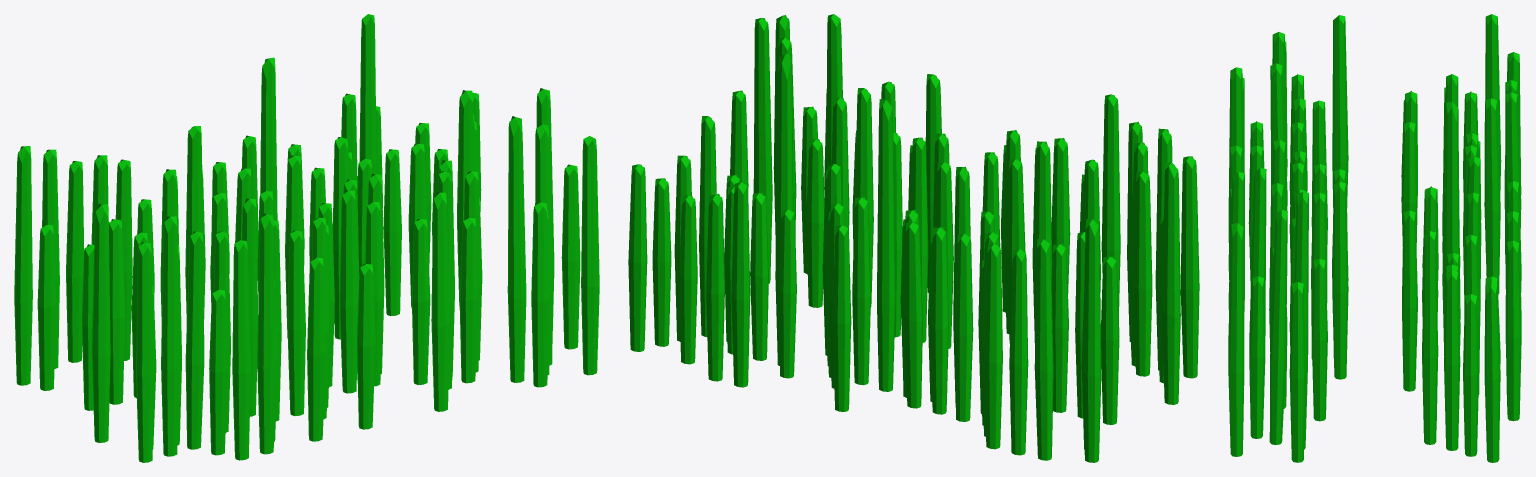
The model's file is krass01.fbx.
The picture shows the model from 3 angles, left to right: view 1: azimuth 30°, elevation 25°; view 2: azimuth 150°, elevation 25°; view 3: azimuth 270°, elevation 25°; orthographic projection. The views are drawn at different scales.
Parts seen in each view (by area): view 1: krass01; view 2: krass01; view 3: krass01.
Boxes of the visible parts, box(x1,y1,x2,y2) form: krass01: box(14, 14, 599, 462); krass01: box(628, 14, 1199, 462); krass01: box(1228, 14, 1521, 462).
Size of the model in its own units: 766 by 481 by 428.
